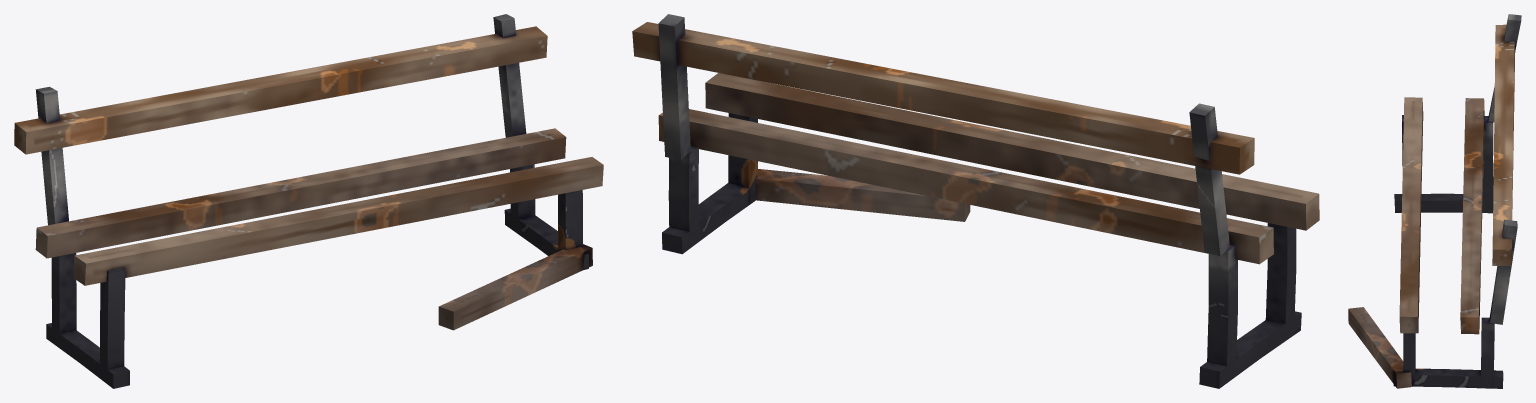
Rendered from ParkBench.glb.
The picture shows the model from 3 angles, left to right: view 1: azimuth 30°, elevation 25°; view 2: azimuth 150°, elevation 25°; view 3: azimuth 270°, elevation 25°; orthographic projection. The views are drawn at different scales.
Parts seen in each view (by area): view 1: Slats, Frame; view 2: Slats, Frame; view 3: Slats, Frame.
Part boxes in pixels (x1=…): Slats: x1=14, y1=26, x2=603, y2=330; Frame: x1=35, y1=14, x2=588, y2=388; Slats: x1=632, y1=22, x2=1319, y2=264; Frame: x1=658, y1=14, x2=1301, y2=388; Slats: x1=1348, y1=24, x2=1515, y2=388; Frame: x1=1393, y1=14, x2=1521, y2=388.
Bounding box in the file's own units: 2.99 × 1.34 × 1.08.
2 materials, 2 textured.
